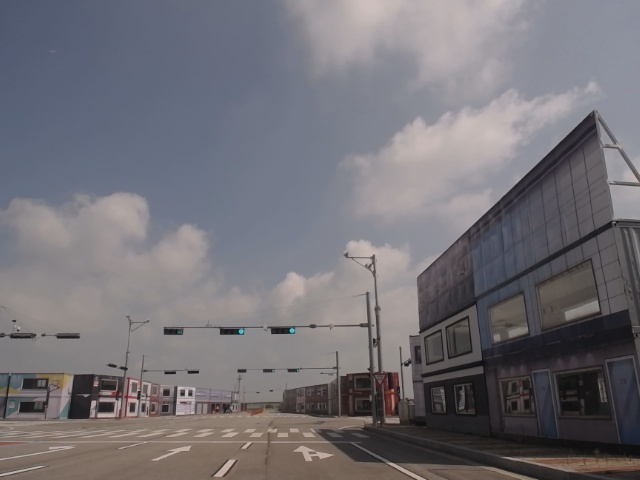straight_green_4: (219, 326, 246, 336), (271, 327, 297, 334)
